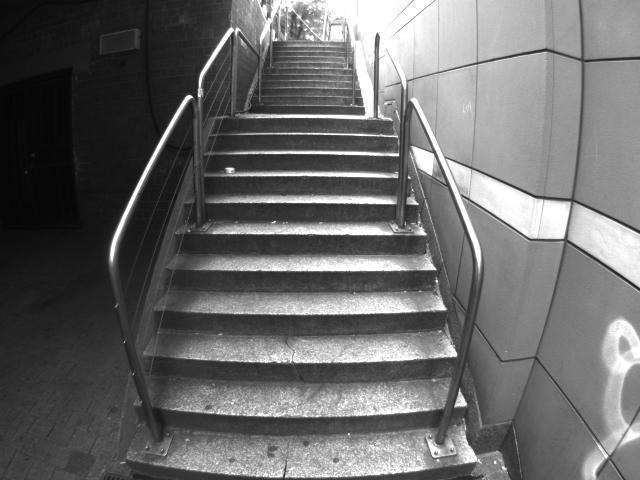Escaleras: (149, 107, 491, 479), (210, 35, 367, 114)
